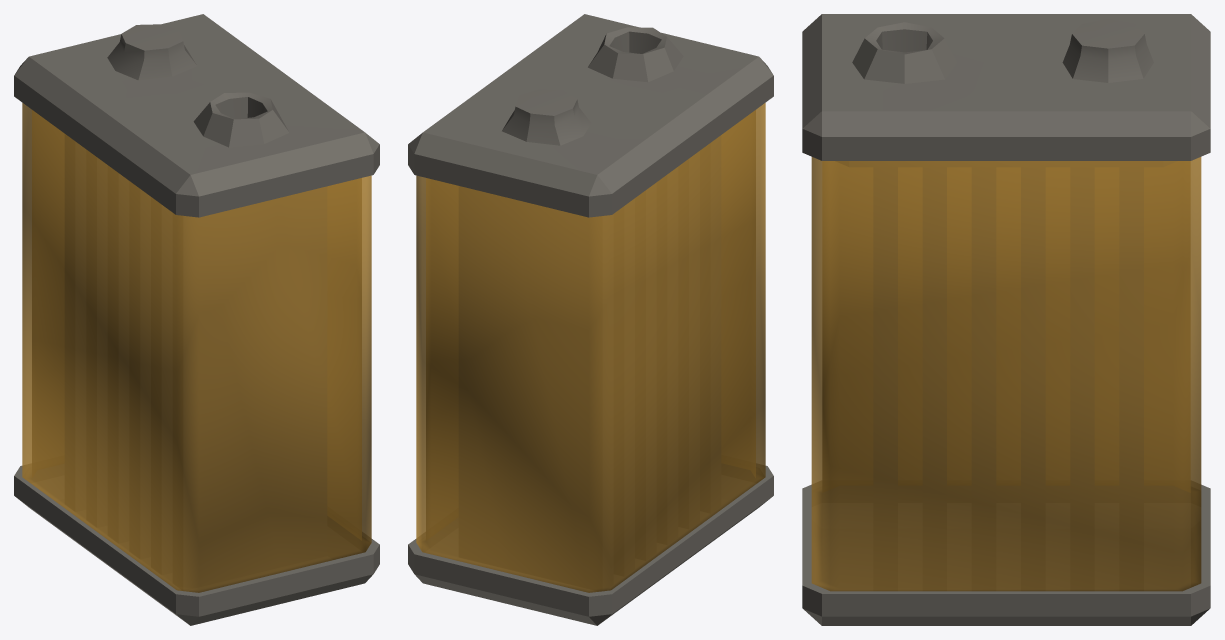
File: battery.fbx
3 renders of one model, left to right at view 1: azimuth 30°, elevation 25°; view 2: azimuth 150°, elevation 25°; view 3: azimuth 270°, elevation 25°, orthographic. The views are drawn at different scales.
Parts seen in each view (by area): view 1: Cube.001, Cube; view 2: Cube.001, Cube; view 3: Cube.001, Cube.
Boxes of the visible parts, box(x1,y1,x2,y2) form: Cube.001: box(22, 103, 371, 592); Cube: box(14, 14, 379, 625); Cube.001: box(416, 103, 765, 592); Cube: box(408, 14, 773, 625); Cube.001: box(811, 157, 1201, 591); Cube: box(802, 14, 1210, 625).
Size of the model in its own units: 94.63 by 211 by 144.
